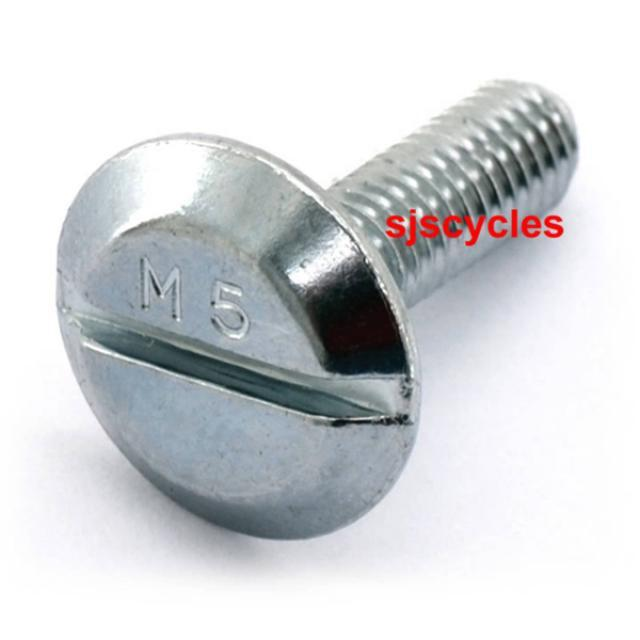duz: (51, 132, 420, 540)
